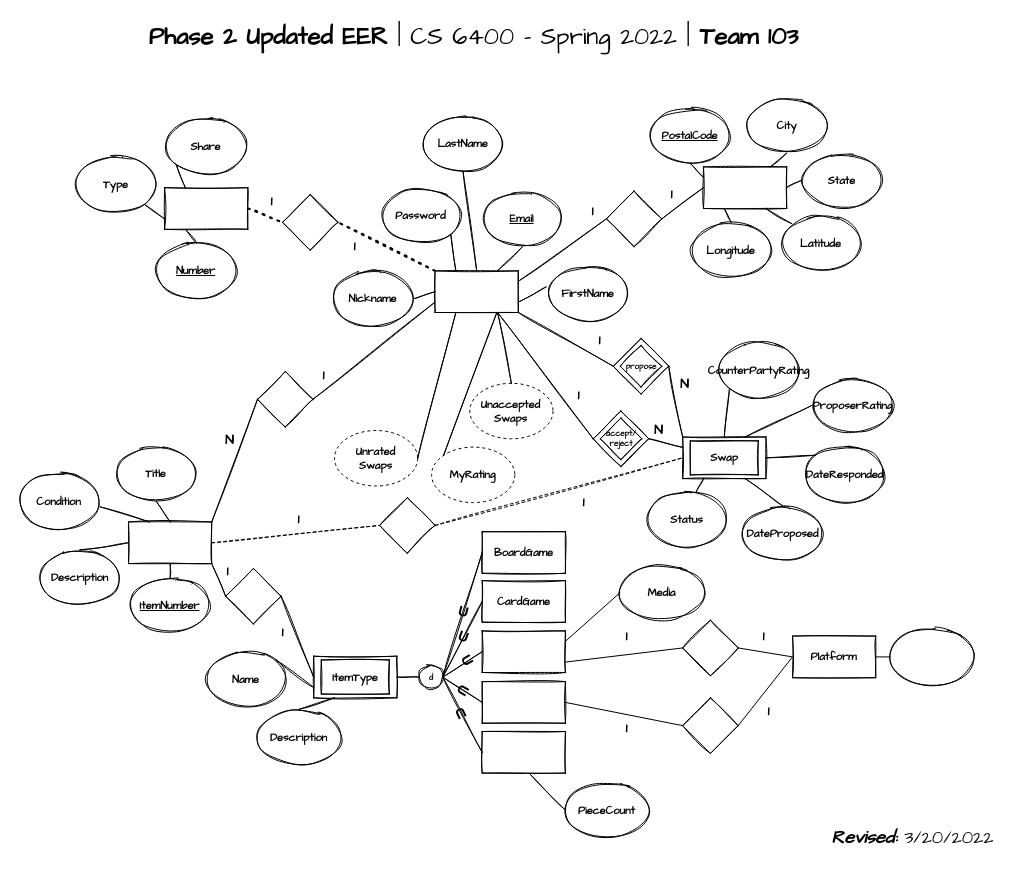
Some shapes in this 1016 by 869 pixel diagram are drawn without their labels. Here are the shapes that lost their labels. From the top down, the centre of each, then its label:
At point 744,187: "Address".
At point 206,208: "Phone".
At point 476,291: "User".
At point 170,542: "Item".
At point 523,651: "VideoGame".
At point 932,656: "PlatformName".
At point 523,702: "ComputerGame".
At point 523,751: "JigsawPuzzle".
